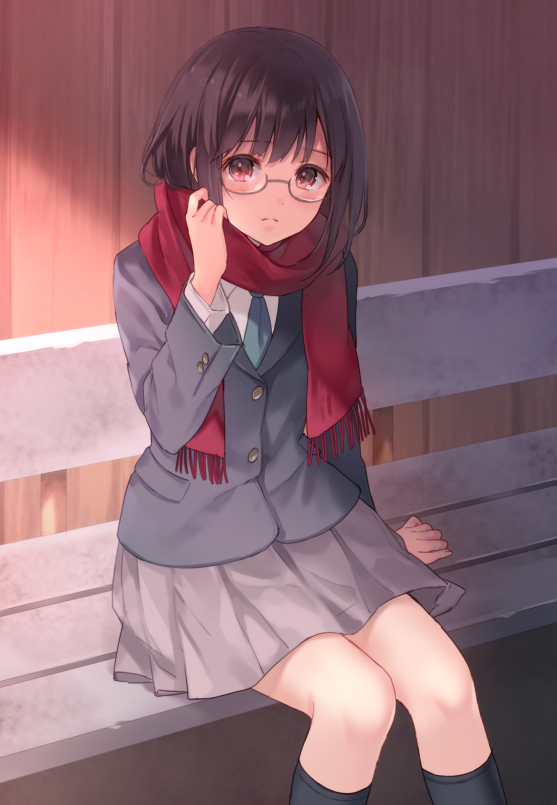纸片人正脸: (146, 20, 375, 252)
